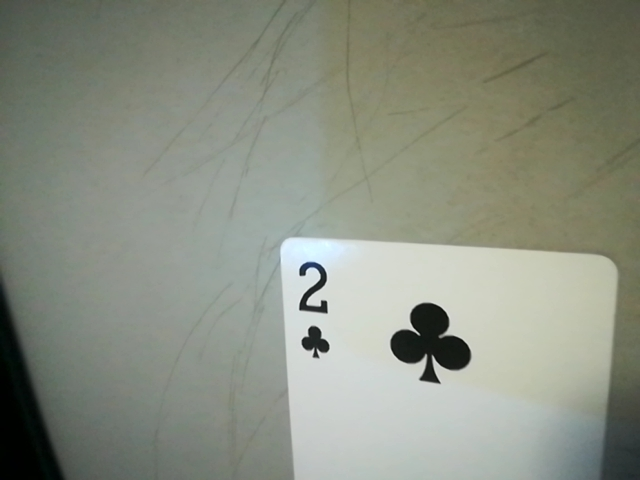mh 2: (283, 252, 346, 371)
